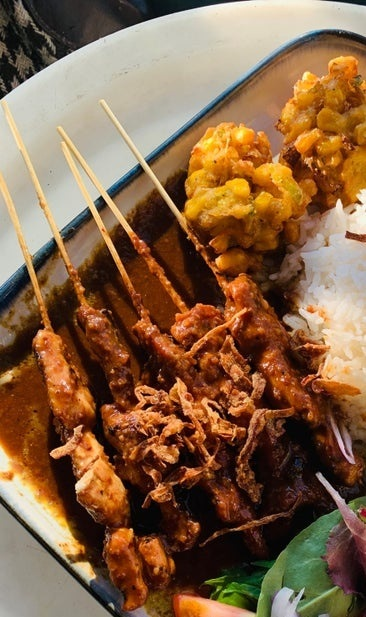sate: (2, 99, 139, 612)
